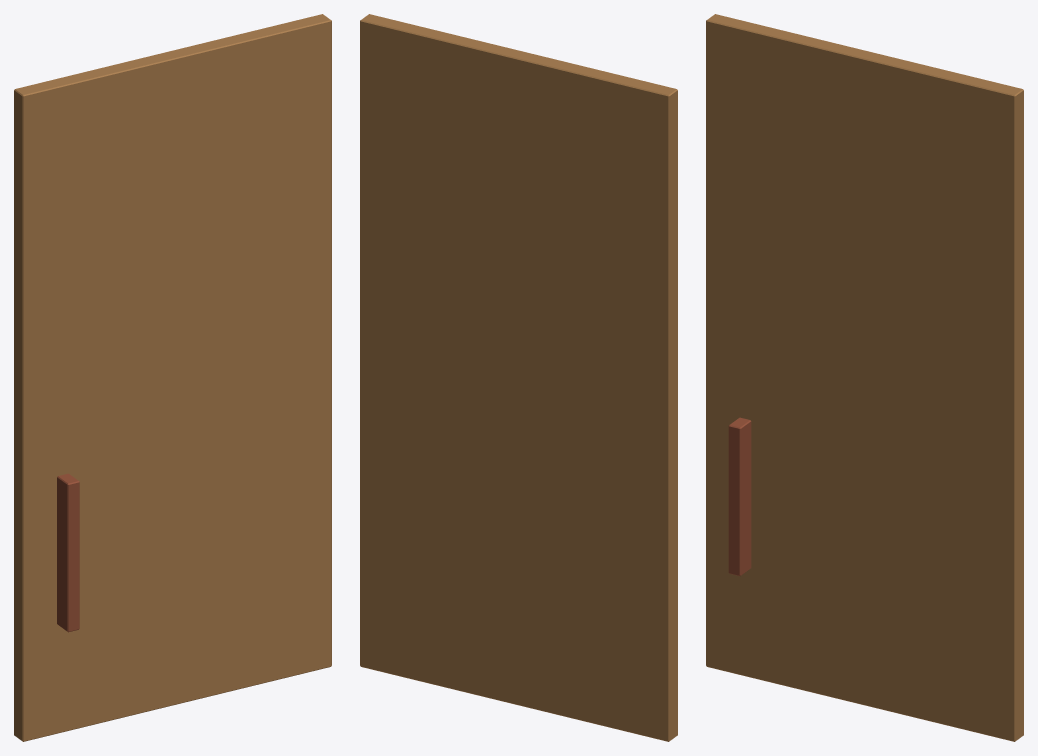
File: wall_cabinet_two_doors_right_door.glb
3 views of the same model, side by side, from view 1: azimuth 30°, elevation 25°; view 2: azimuth 150°, elevation 25°; view 3: azimuth 330°, elevation 25° (orthographic).
Visible parts, largest first — view 1: wall_cabinet_two_doors_right_door.001; view 2: wall_cabinet_two_doors_right_door.001; view 3: wall_cabinet_two_doors_right_door.001.
Part boxes in pixels (box(x1,y1,x2,y2)): wall_cabinet_two_doors_right_door.001: box(14, 14, 331, 741); wall_cabinet_two_doors_right_door.001: box(360, 14, 677, 741); wall_cabinet_two_doors_right_door.001: box(706, 14, 1023, 741).
Bounding box in the file's own units: 0.3485 × 0.696 × 0.04.
